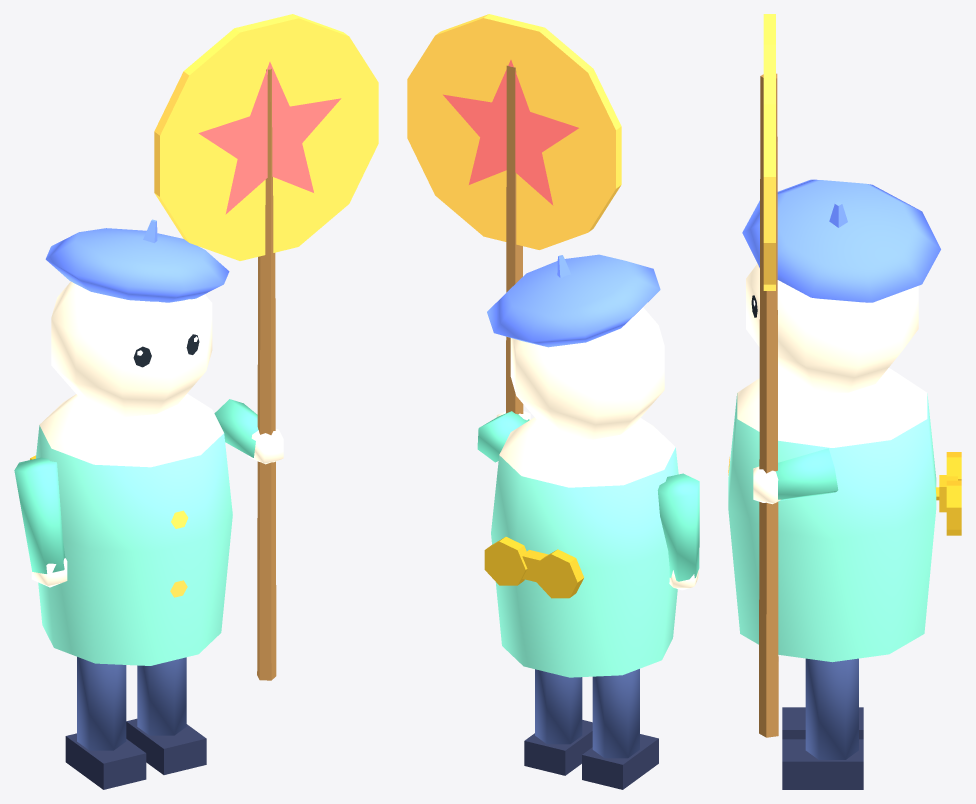
The model's file is band-flag.glb.
The picture shows the model from 3 angles, left to right: view 1: azimuth 30°, elevation 25°; view 2: azimuth 150°, elevation 25°; view 3: azimuth 270°, elevation 25°; orthographic projection. The views are drawn at different scales.
Visible parts, largest first — view 1: band-flag; view 2: band-flag; view 3: band-flag.
Part boxes in pixels (<box>): band-flag: <box>14,14,378,789</box>; band-flag: <box>407,14,699,789</box>; band-flag: <box>728,14,961,789</box>.
Bounding box in the file's own units: 1.31 × 2.78 × 0.7469.
